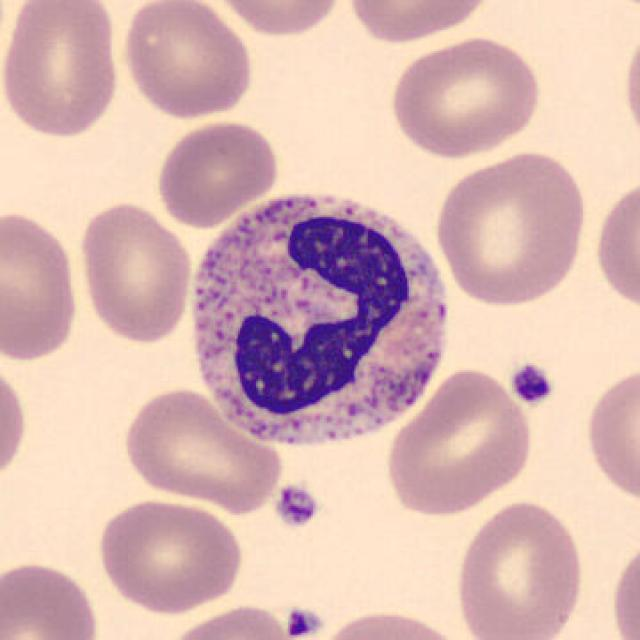neutrophil: (190, 194, 448, 454)
platelets: (504, 353, 554, 419), (272, 478, 319, 527), (290, 604, 325, 638)
rbc: (118, 393, 282, 518), (384, 379, 520, 511), (448, 167, 582, 300), (9, 0, 112, 135), (466, 512, 574, 640), (99, 506, 236, 606), (85, 208, 193, 334), (428, 36, 536, 144), (127, 0, 237, 105), (1, 209, 76, 352), (391, 42, 474, 167), (162, 122, 266, 217), (0, 561, 94, 640), (586, 377, 640, 494), (353, 0, 483, 36), (603, 200, 640, 303), (226, 0, 341, 30), (0, 371, 37, 459), (605, 557, 640, 640), (339, 615, 454, 640), (181, 613, 272, 640), (624, 53, 640, 123)
